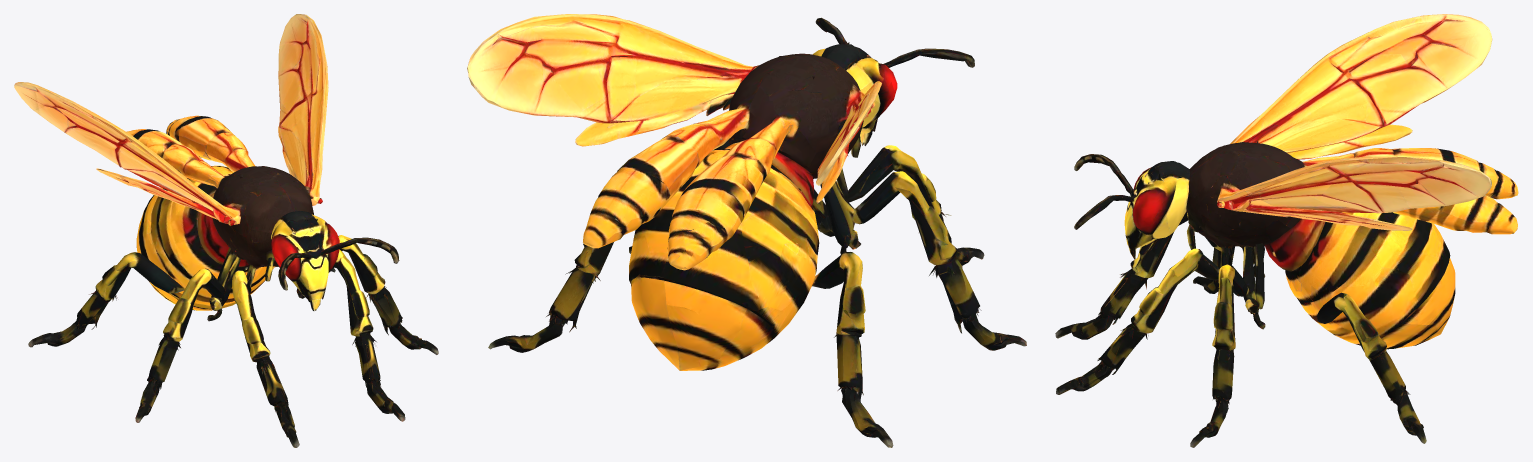
The model's file is ape.glb.
3 renders of one model, left to right at view 1: azimuth 30°, elevation 25°; view 2: azimuth 150°, elevation 25°; view 3: azimuth 270°, elevation 25°, orthographic. The views are drawn at different scales.
Visible parts, largest first — view 1: ape; view 2: ape; view 3: ape.
Part boxes in pixels (x1,y1,x2,y2): ape: (14, 14, 438, 447); ape: (467, 14, 1026, 447); ape: (1055, 14, 1518, 447).
Bounding box in the file's own units: 1.6 × 1.27 × 1.9.
1 material, 1 textured.
